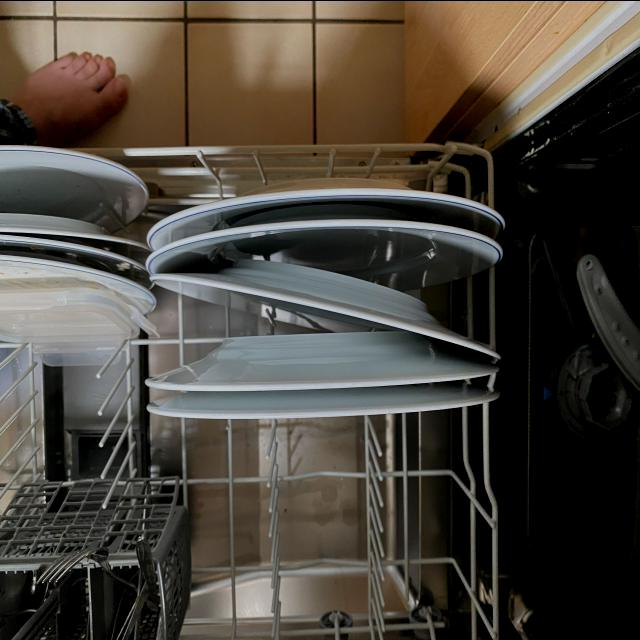clutery_bin: (2, 552, 162, 640)
empty_slot: (208, 417, 479, 632), (0, 343, 148, 475)
